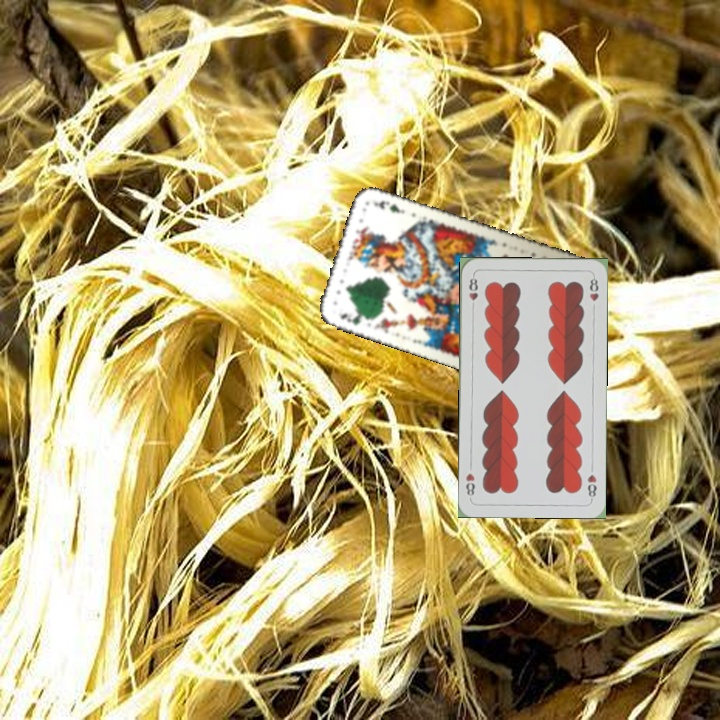GK: (336, 309, 372, 328)
H8: (465, 272, 480, 313), (583, 471, 599, 502)
